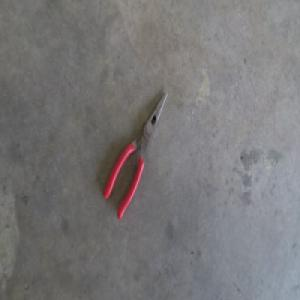Pliers: (104, 88, 170, 218)
